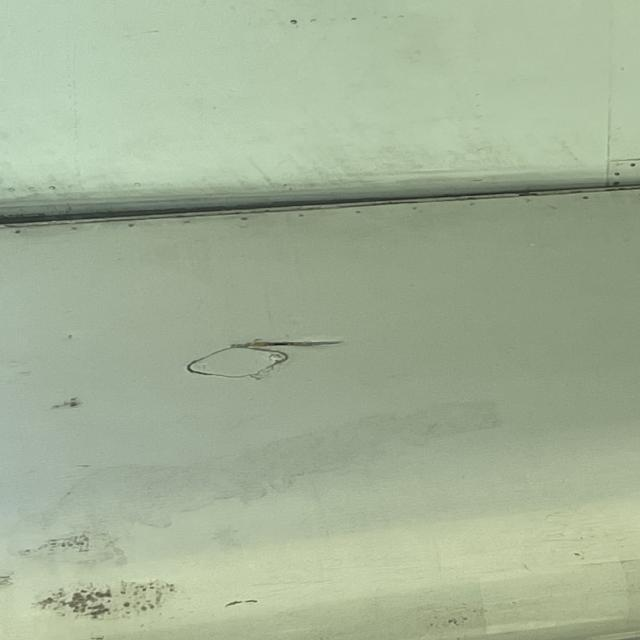crack: (230, 332, 344, 353)
